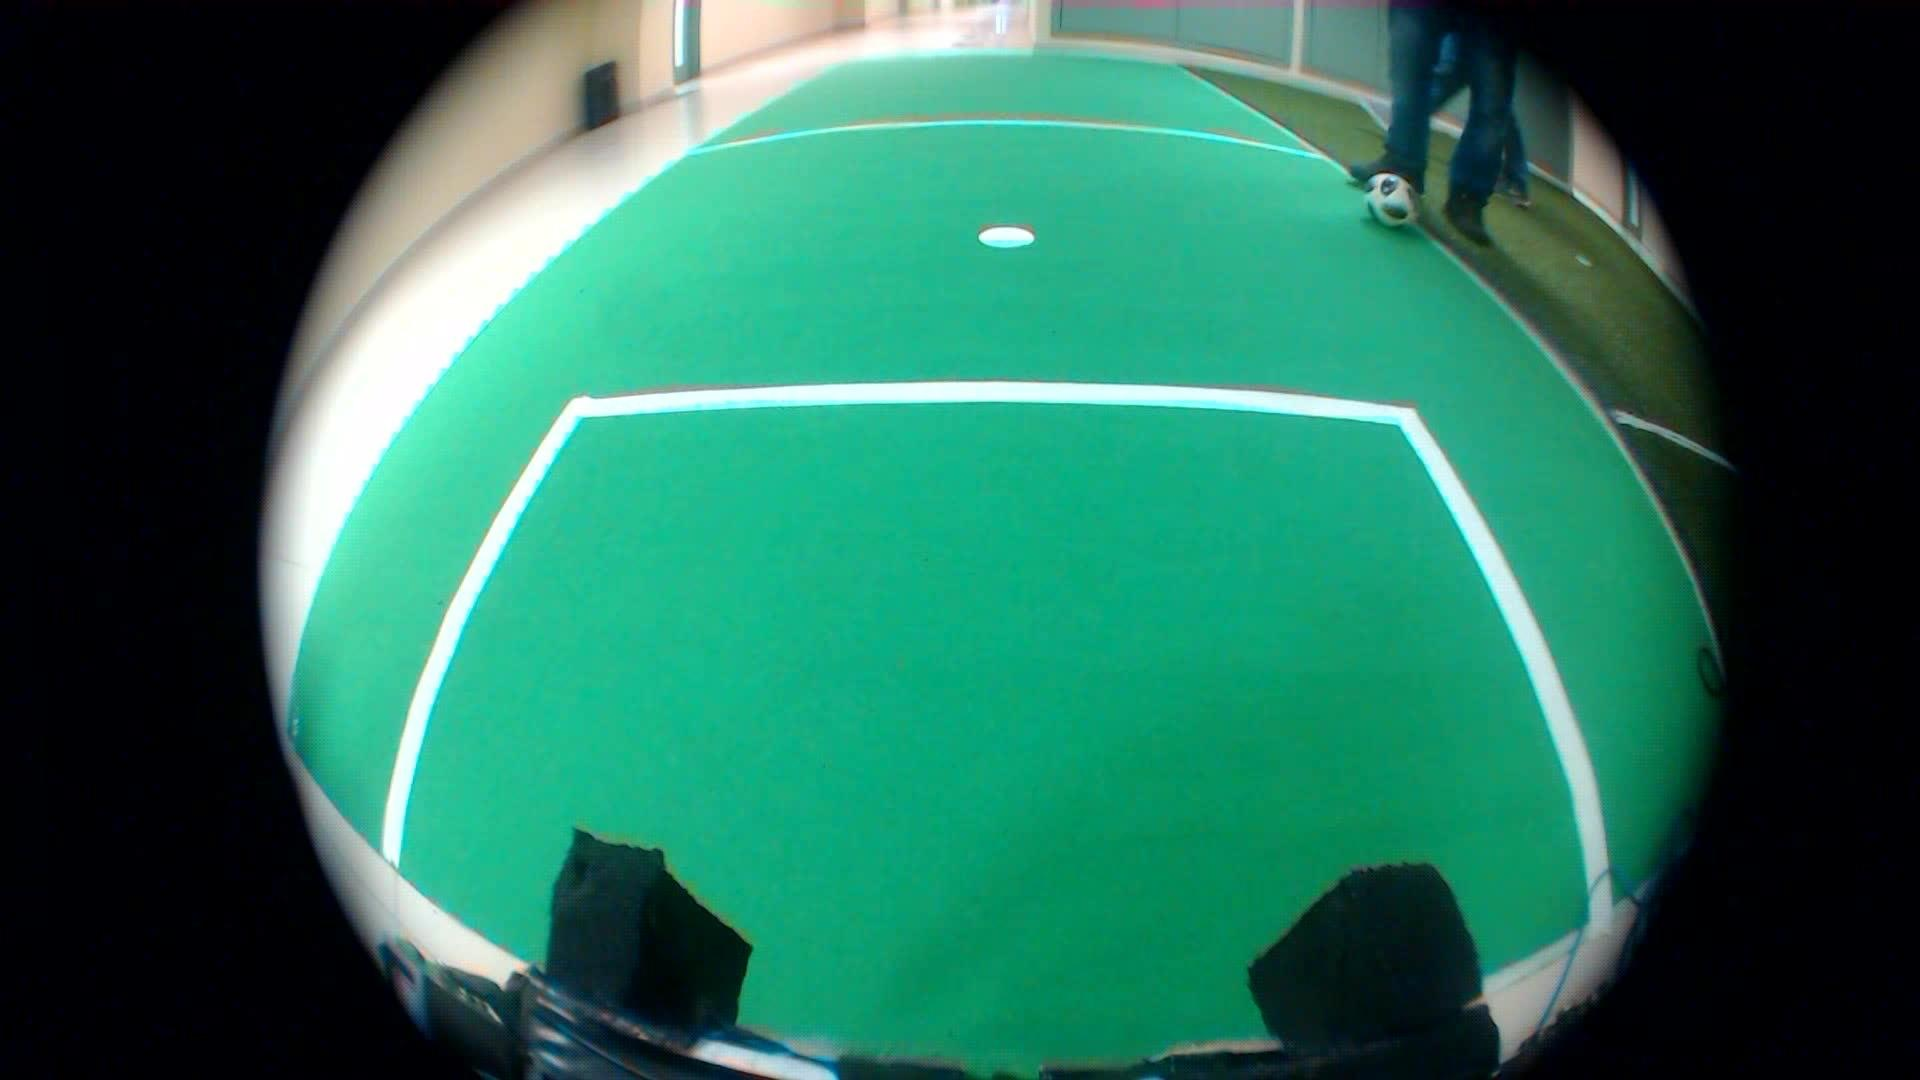ball: (1354, 164, 1422, 243)
